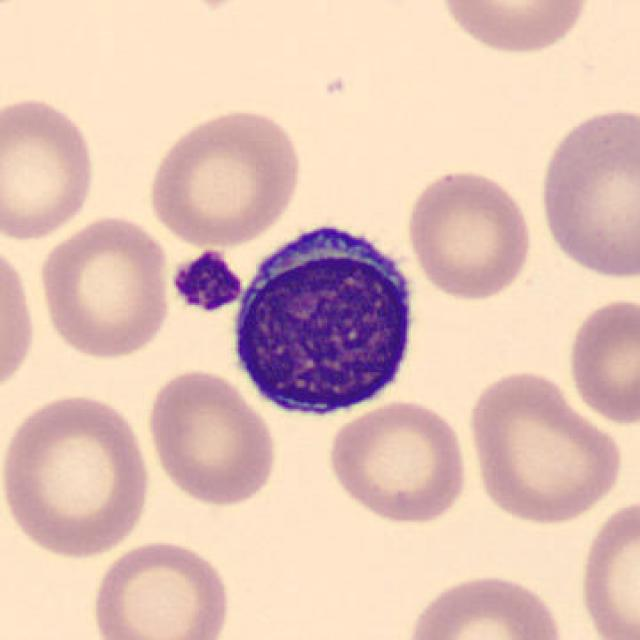Lymphocyte: (224, 208, 425, 423)
Platelets: (165, 247, 247, 314)
RBC: (0, 388, 155, 561), (462, 365, 626, 527), (144, 104, 306, 249), (34, 212, 176, 362), (142, 365, 281, 509), (324, 397, 471, 527), (534, 101, 638, 282), (402, 166, 537, 303), (87, 536, 235, 640), (0, 92, 100, 245), (402, 569, 570, 640), (574, 490, 640, 640), (564, 294, 638, 426), (434, 0, 594, 58), (0, 234, 39, 402)
